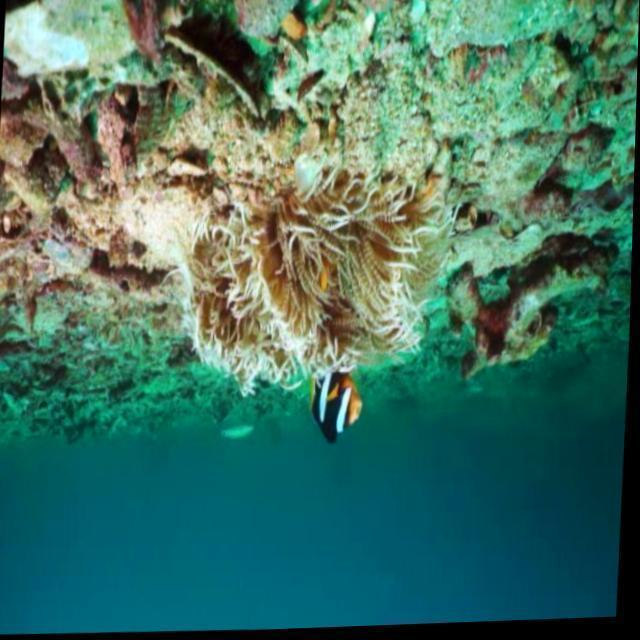Dead Coral: (0, 67, 147, 273), (439, 229, 616, 397), (457, 265, 465, 315)
